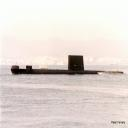submarine: (13, 56, 124, 75)
